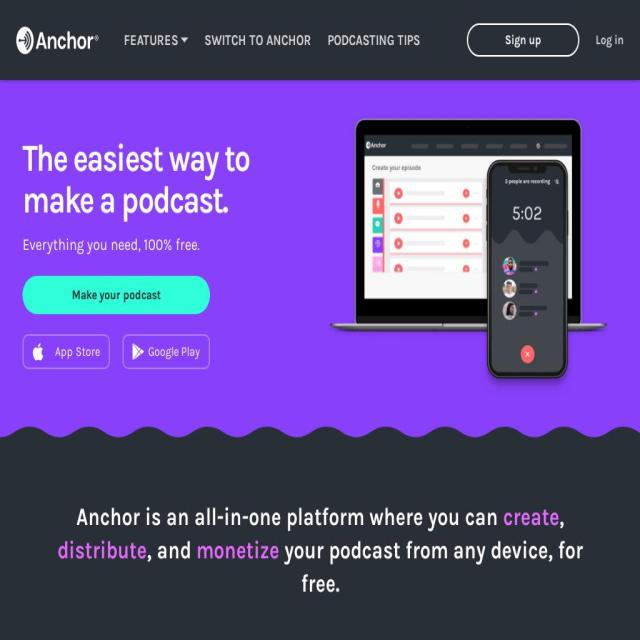button: (22, 275, 210, 314), (467, 23, 579, 57), (22, 333, 110, 369), (122, 333, 210, 369), (205, 29, 312, 51), (16, 26, 99, 54), (328, 29, 420, 51)
heading: (22, 137, 320, 221), (284, 534, 583, 598), (76, 501, 498, 532), (57, 534, 147, 565), (196, 534, 280, 565), (502, 501, 560, 532), (146, 534, 192, 565), (559, 501, 564, 532)
image: (320, 110, 618, 397), (0, 426, 640, 442), (16, 26, 99, 54), (32, 342, 44, 361), (132, 343, 144, 360)
link: (596, 31, 624, 49)
text: (22, 233, 320, 256), (205, 29, 312, 51), (328, 29, 420, 51), (124, 29, 178, 51), (148, 342, 200, 361), (55, 342, 100, 361)
